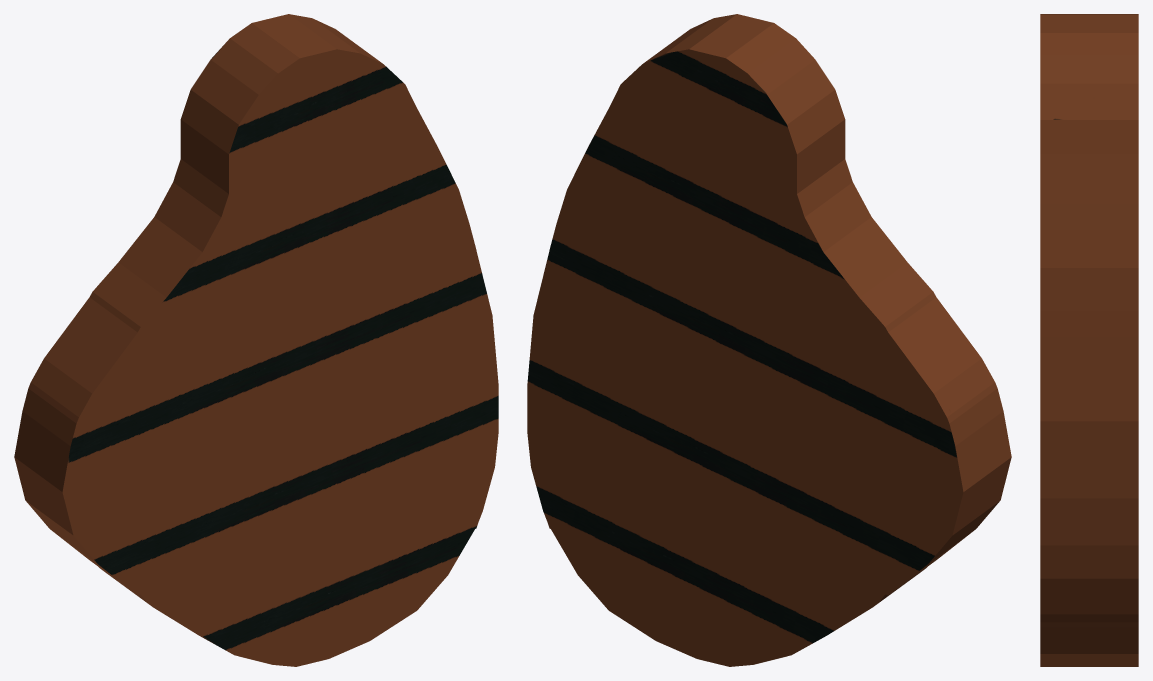
File: Steak.fbx
The picture shows the model from 3 angles, left to right: view 1: azimuth 30°, elevation 25°; view 2: azimuth 150°, elevation 25°; view 3: azimuth 270°, elevation 25°; orthographic projection. The views are drawn at different scales.
Parts seen in each view (by area): view 1: Steak; view 2: Steak; view 3: Steak.
Boxes of the visible parts, x1,y1,x2,y2 form: Steak: (14, 14, 498, 666); Steak: (527, 14, 1011, 666); Steak: (1040, 14, 1138, 666).
Bounding box in the file's own units: 624 × 831 × 120.
